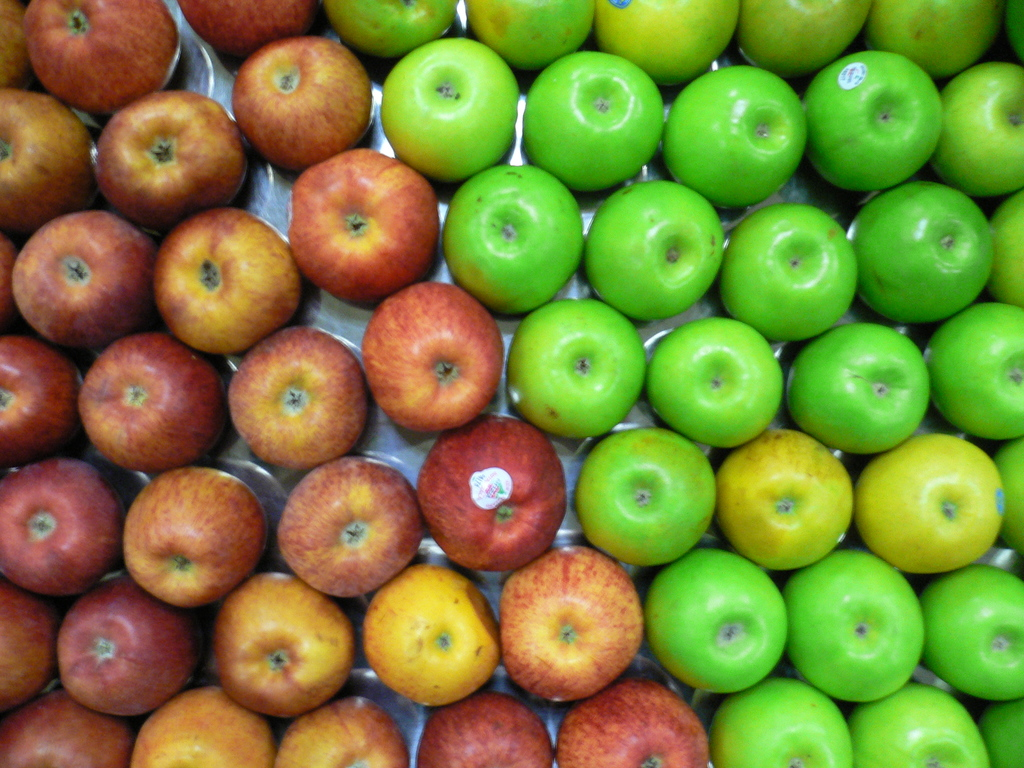Apple: (0, 0, 1023, 765), (653, 309, 801, 449)
